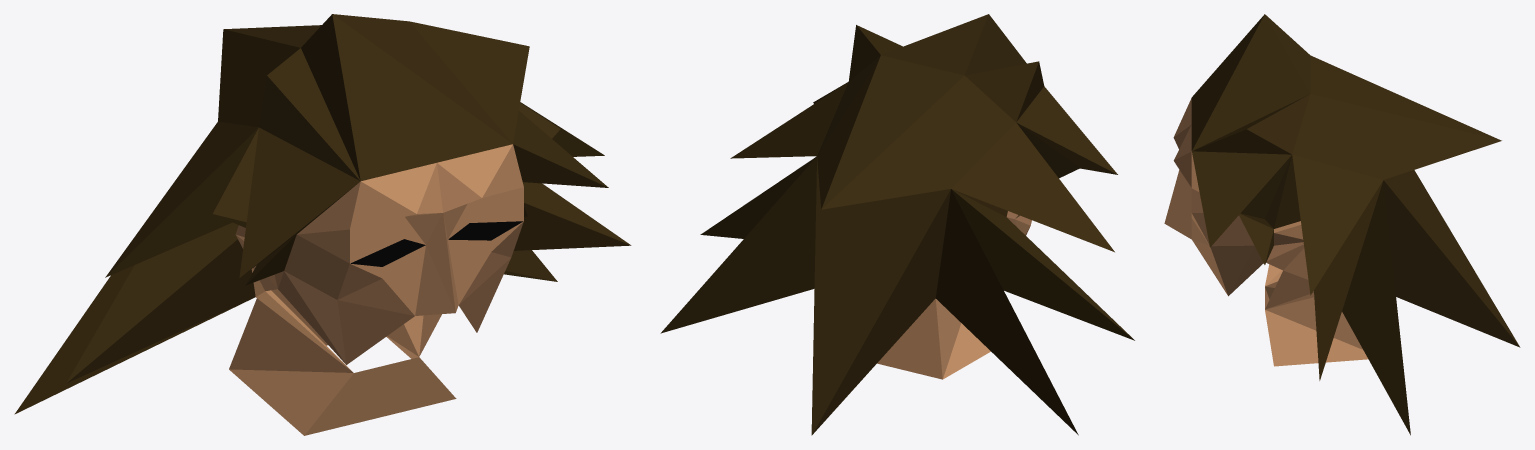
File: model_206_idk.obj
3 views of the same model, side by side, from view 1: azimuth 30°, elevation 25°; view 2: azimuth 150°, elevation 25°; view 3: azimuth 270°, elevation 25° (orthographic). The views are drawn at different scales.
Visible parts, largest first — view 1: 206; view 2: 206; view 3: 206.
Boxes of the visible parts, bbox=[...] form: 206: bbox=[14, 14, 631, 435]; 206: bbox=[660, 14, 1134, 435]; 206: bbox=[1164, 14, 1520, 435].
Bounding box in the file's own units: 52 × 38 × 39.
